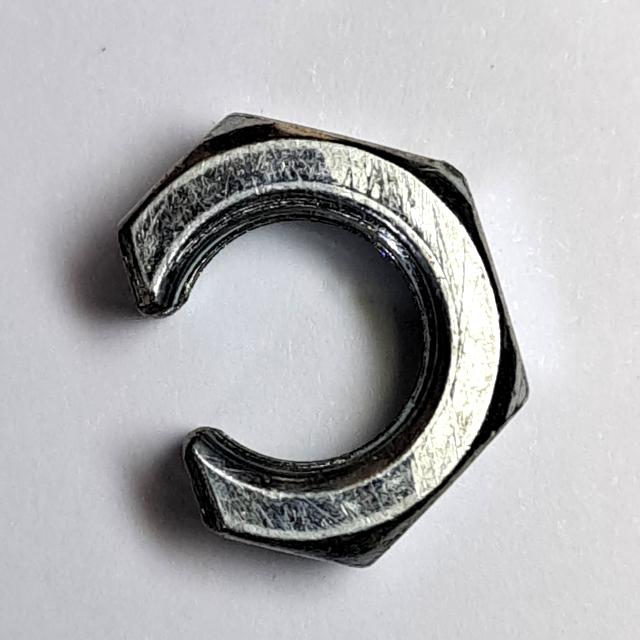Fracture: (105, 102, 543, 587)
